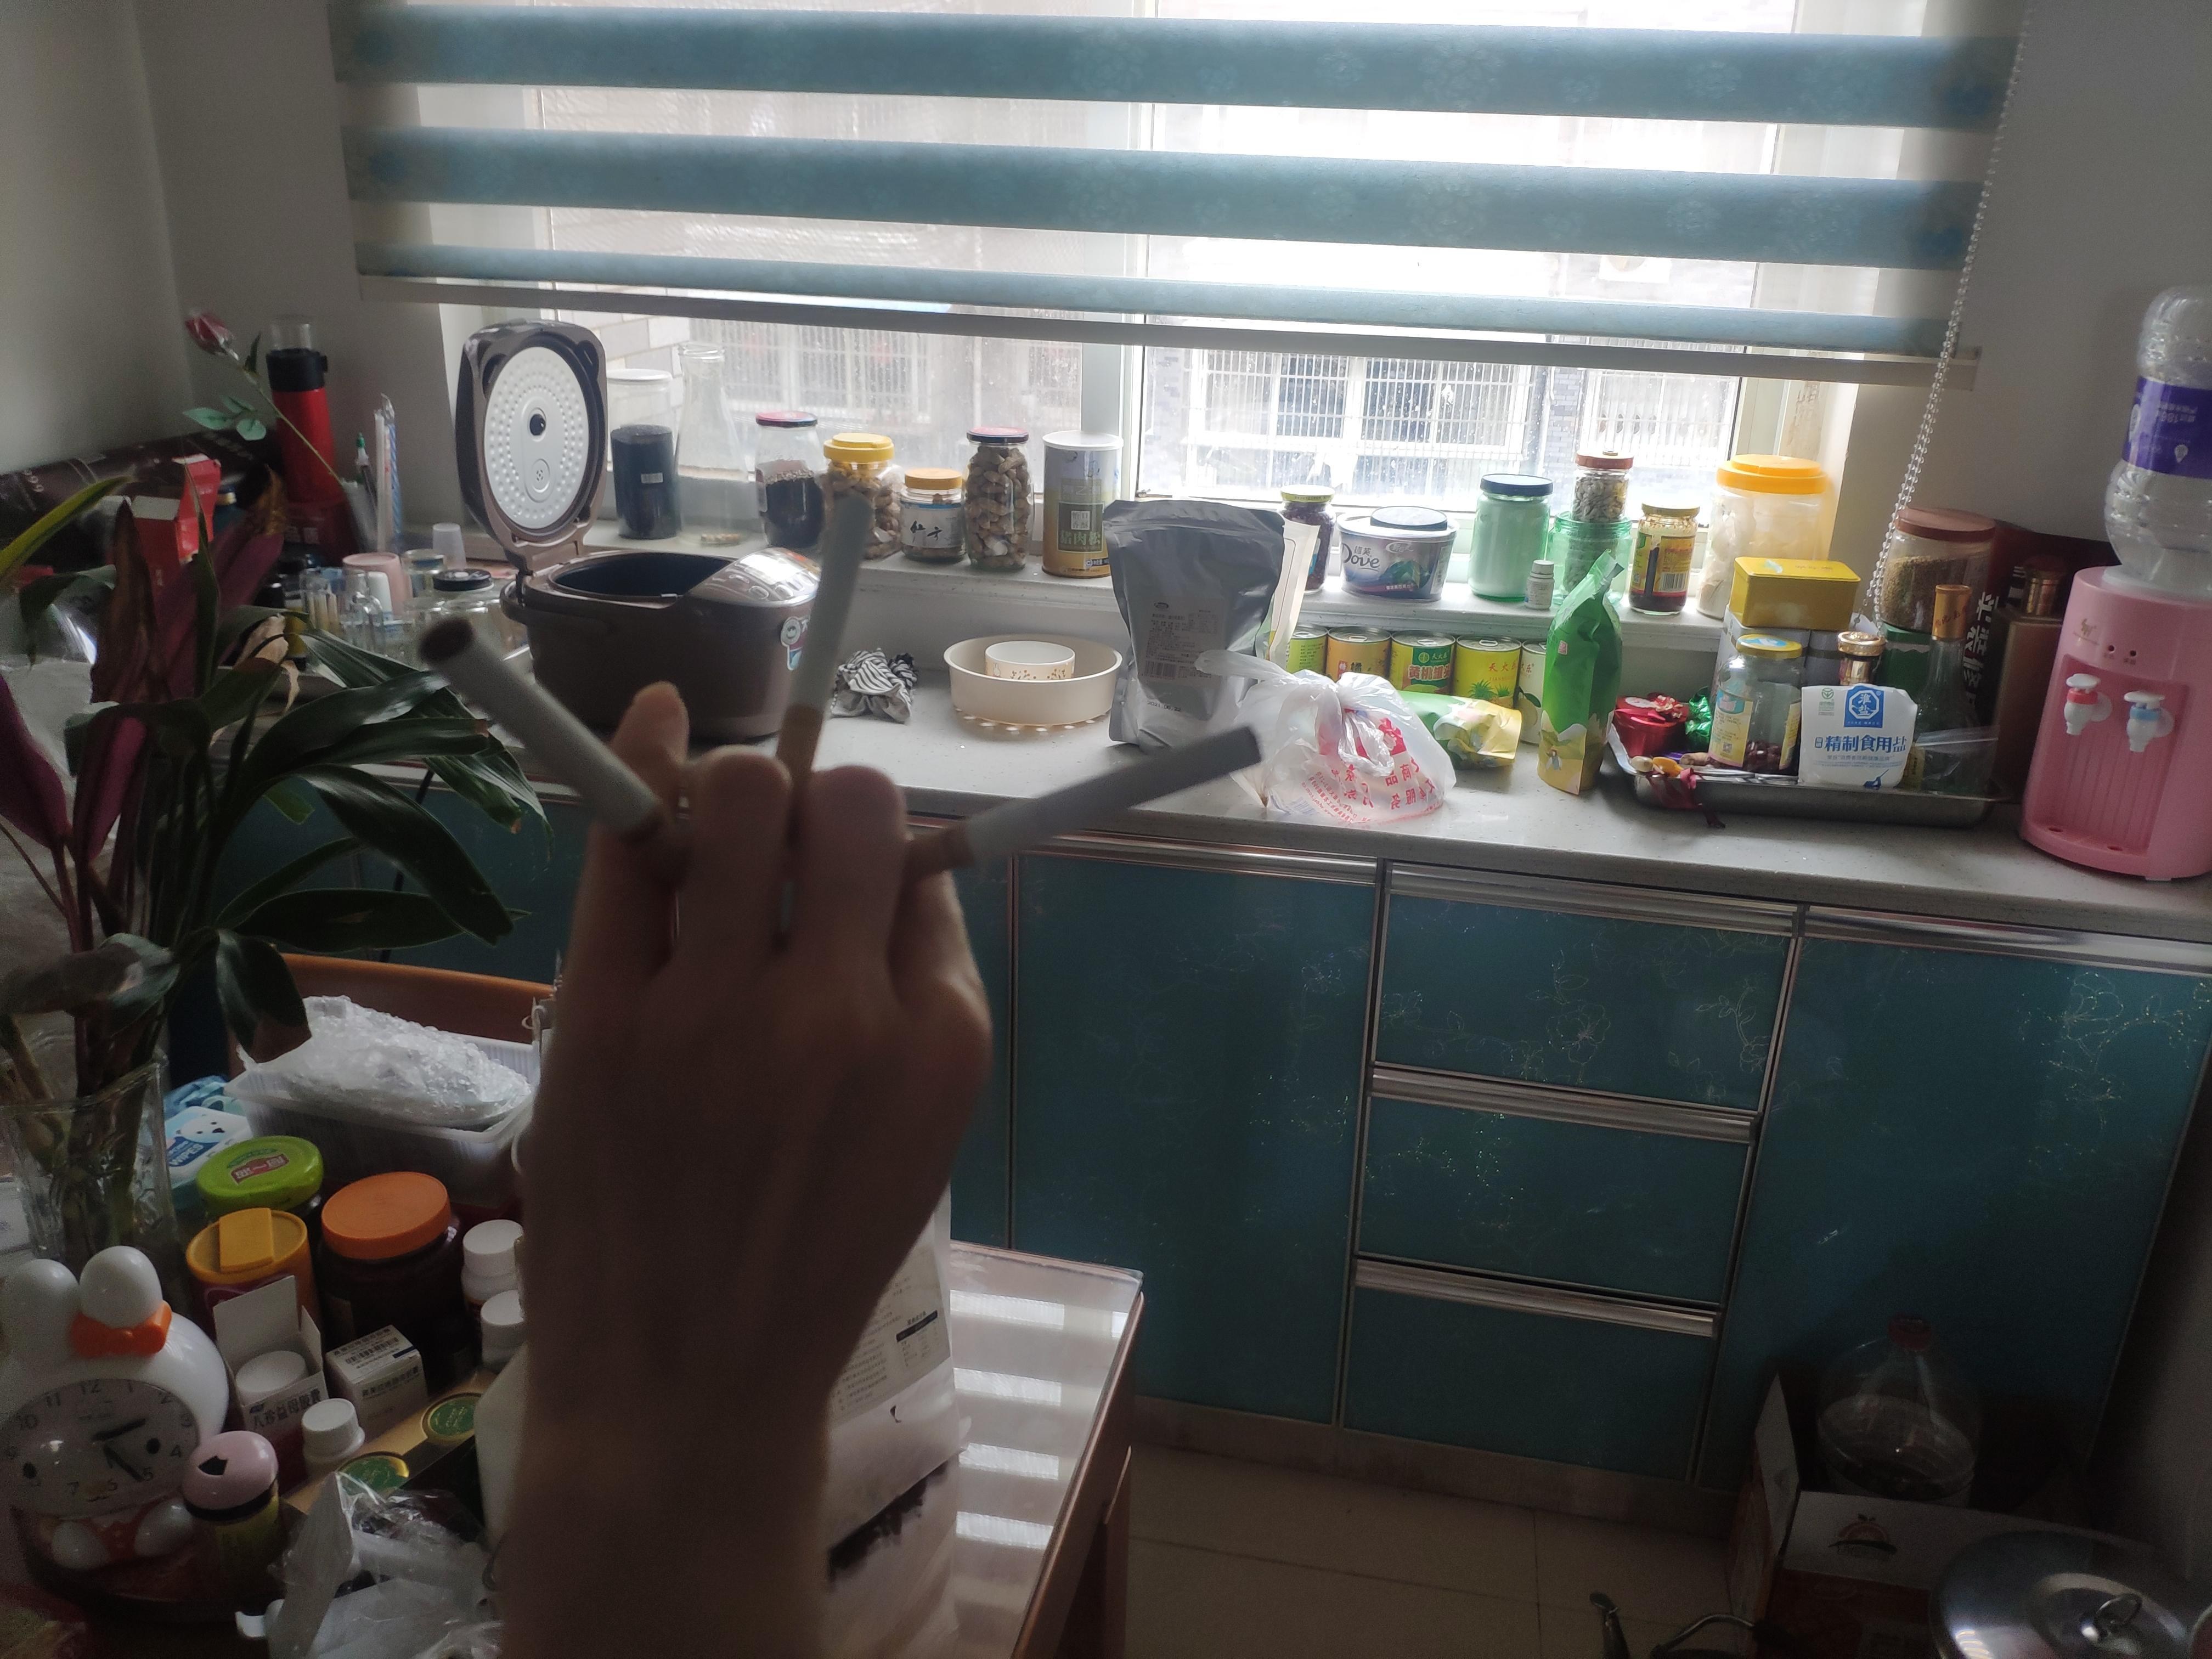smoke: (421, 615, 728, 917), (871, 725, 1271, 897), (752, 491, 885, 854)
